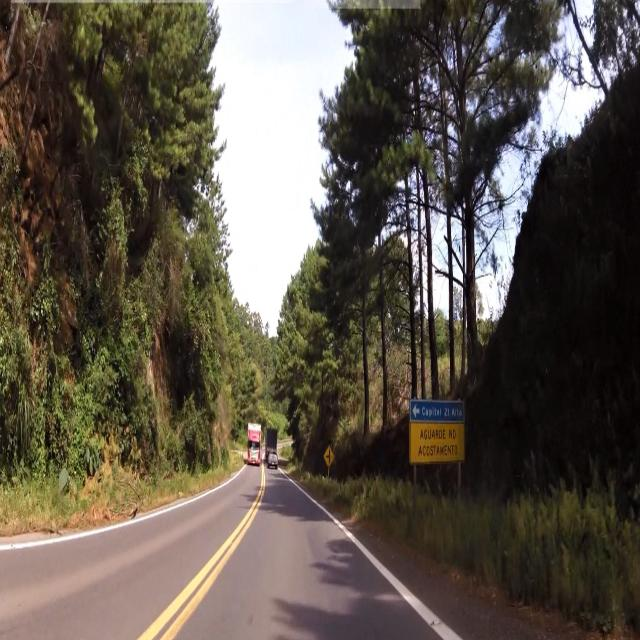A-7a: (324, 436, 336, 468)
